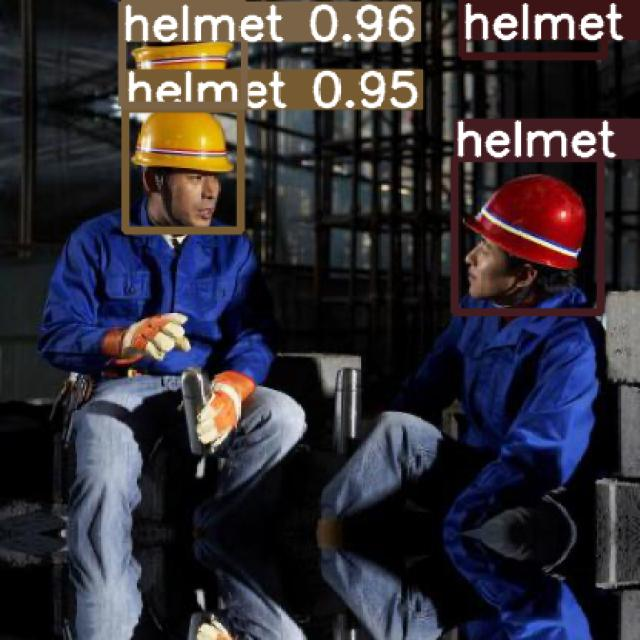helmet: (454, 158, 600, 312), (125, 108, 240, 230), (122, 1, 243, 105), (462, 0, 603, 56)
